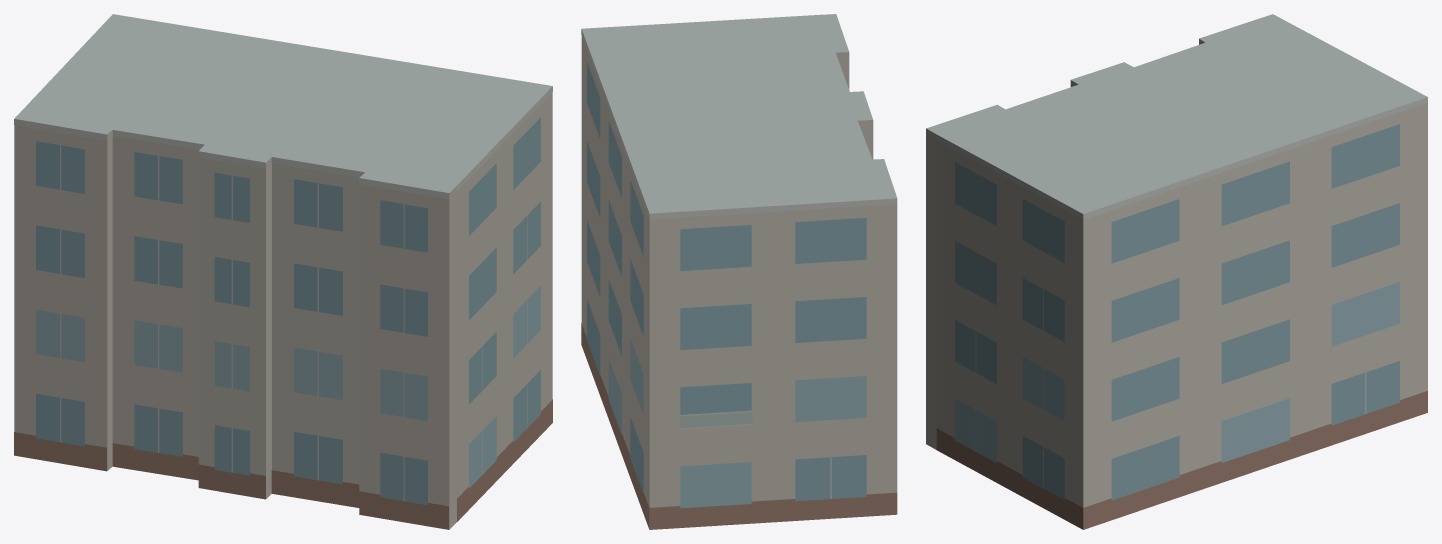
Rendered from survey-upis-32732678.glb.
The picture shows the model from 3 angles, left to right: view 1: azimuth 30°, elevation 25°; view 2: azimuth 150°, elevation 25°; view 3: azimuth 270°, elevation 25°; orthographic projection. The views are drawn at different scales.
Visible parts, largest first — view 1: survey-upis-32732678.tmp; view 2: survey-upis-32732678.tmp; view 3: survey-upis-32732678.tmp.
Boxes of the visible parts, left/top/right/bottom form: survey-upis-32732678.tmp: left=14, top=14, right=552, bottom=529; survey-upis-32732678.tmp: left=581, top=14, right=897, bottom=529; survey-upis-32732678.tmp: left=926, top=14, right=1427, bottom=529.
Size of the model in its own units: 18.23 by 13.4 by 19.31.
